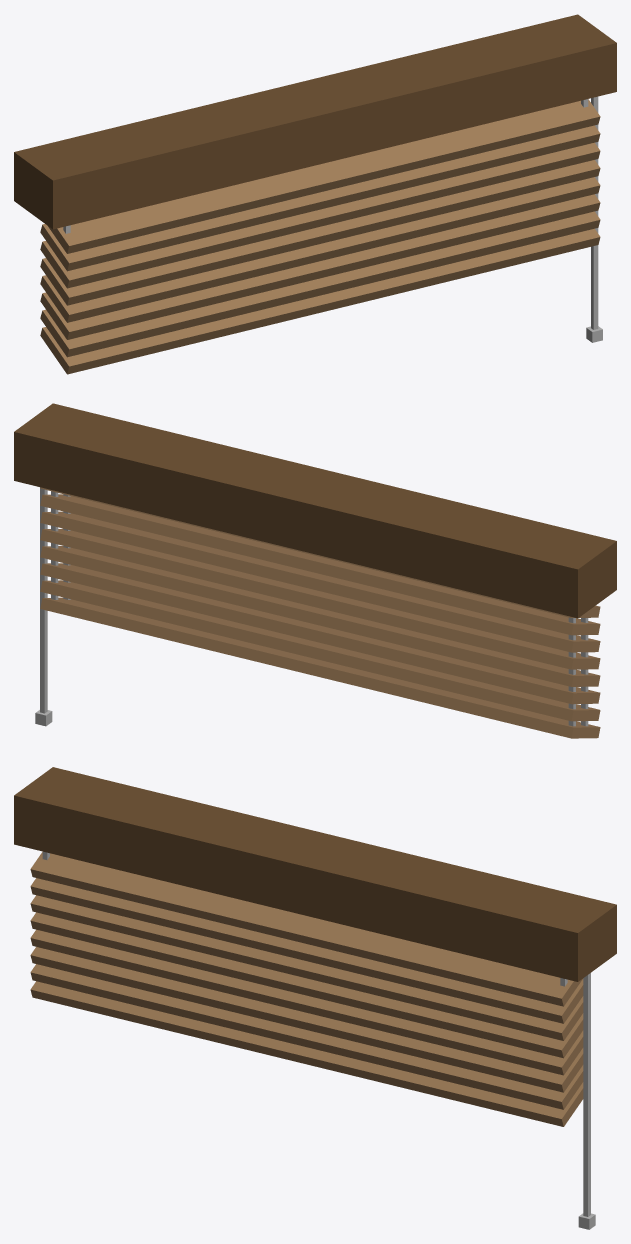
Rendered from Curtains13_C3.fbx.
3 views of the same model, one above another, from view 1: azimuth 30°, elevation 25°; view 2: azimuth 150°, elevation 25°; view 3: azimuth 330°, elevation 25° (orthographic).
Parts seen in each view (by area): view 1: Curtains13_C3; view 2: Curtains13_C3; view 3: Curtains13_C3.
Part boxes in pixels (x1,y1,x2,y2): Curtains13_C3: (14,14,616,374); Curtains13_C3: (14,403,616,738); Curtains13_C3: (14,767,616,1229).
Bounding box in the file's own units: 106 × 54.95 × 12.67.
